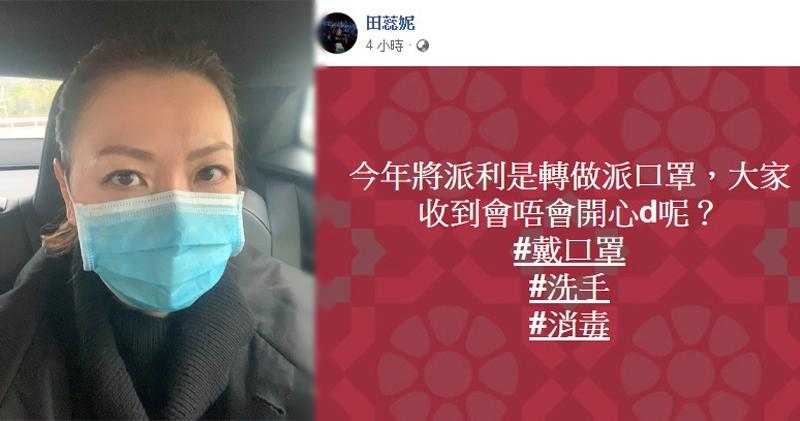Mask: (64, 66, 250, 311)
